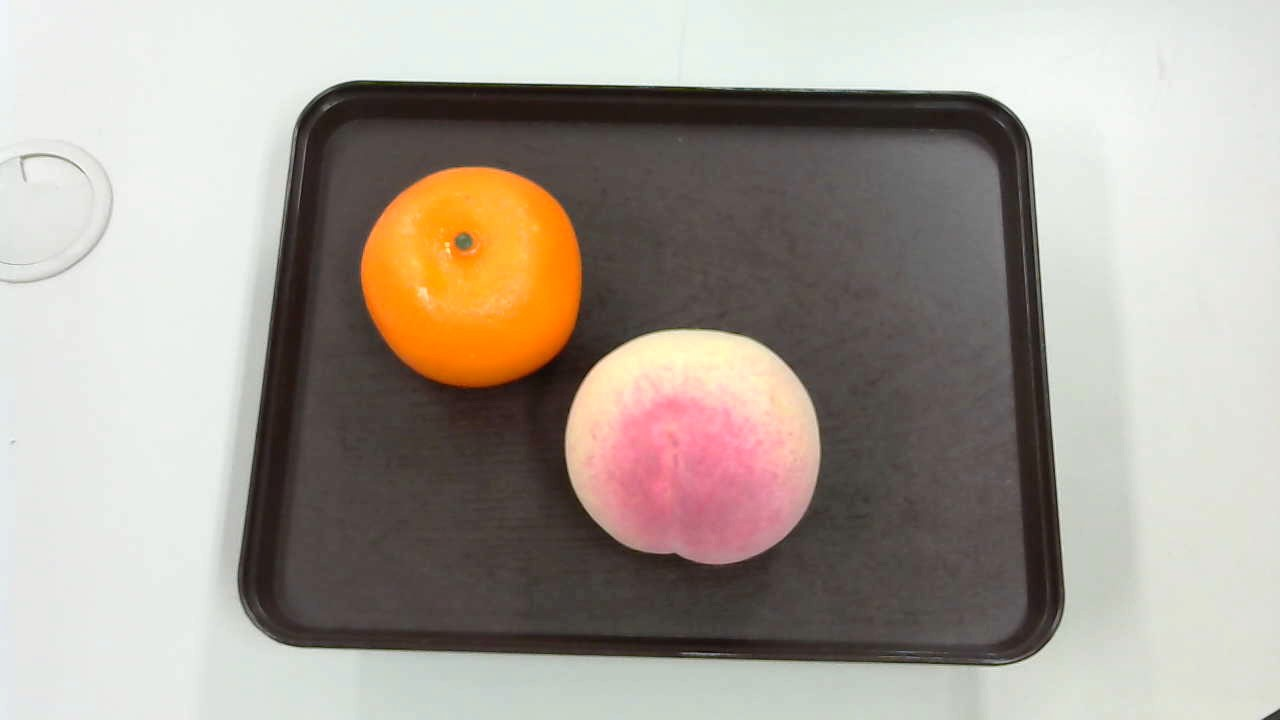orange: (352, 160, 586, 393)
peach: (559, 320, 823, 565)
